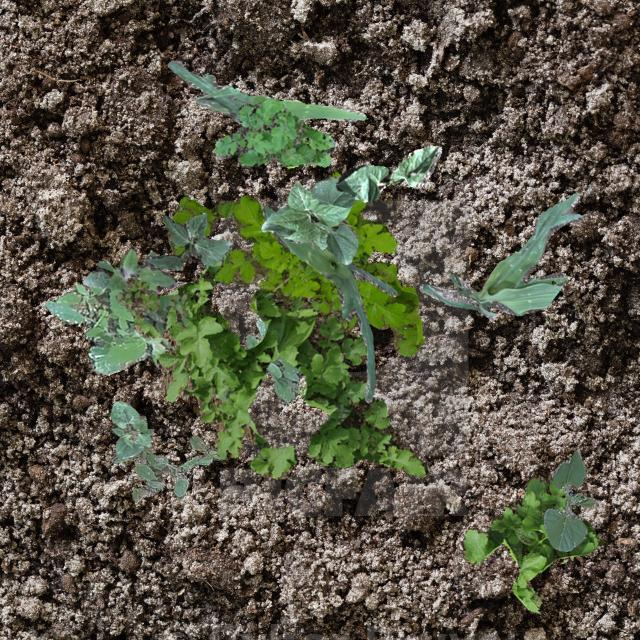crop: (262, 205, 396, 402), (418, 192, 580, 318), (166, 59, 364, 122), (260, 175, 358, 264), (334, 144, 440, 200), (542, 448, 596, 550), (144, 212, 232, 268), (110, 399, 152, 458)
weed: (132, 254, 428, 478), (167, 170, 423, 356), (460, 474, 602, 612), (44, 284, 174, 374), (214, 96, 334, 166), (82, 248, 174, 332), (110, 434, 223, 500), (243, 314, 300, 402), (115, 276, 187, 326)
